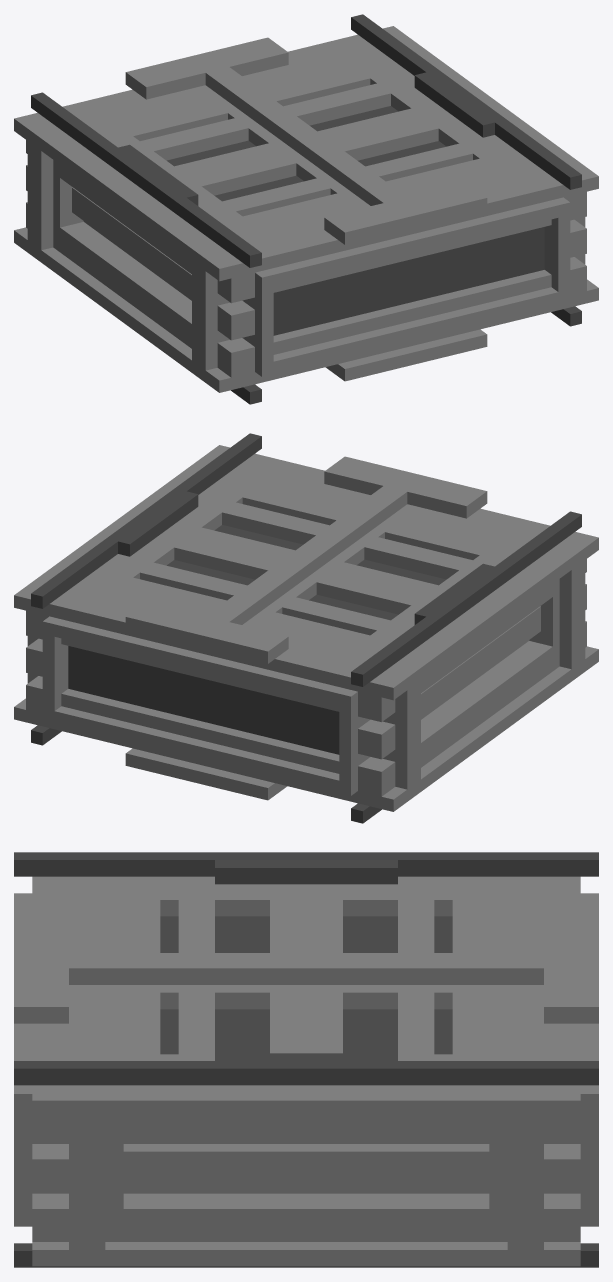
File: alien_saucer1c.obj
3 views of the same model, one above another, from view 1: azimuth 30°, elevation 25°; view 2: azimuth 150°, elevation 25°; view 3: azimuth 270°, elevation 25° (orthographic). The views are drawn at different scales.
Bounding box in the file's own units: 32 × 12 × 32.
